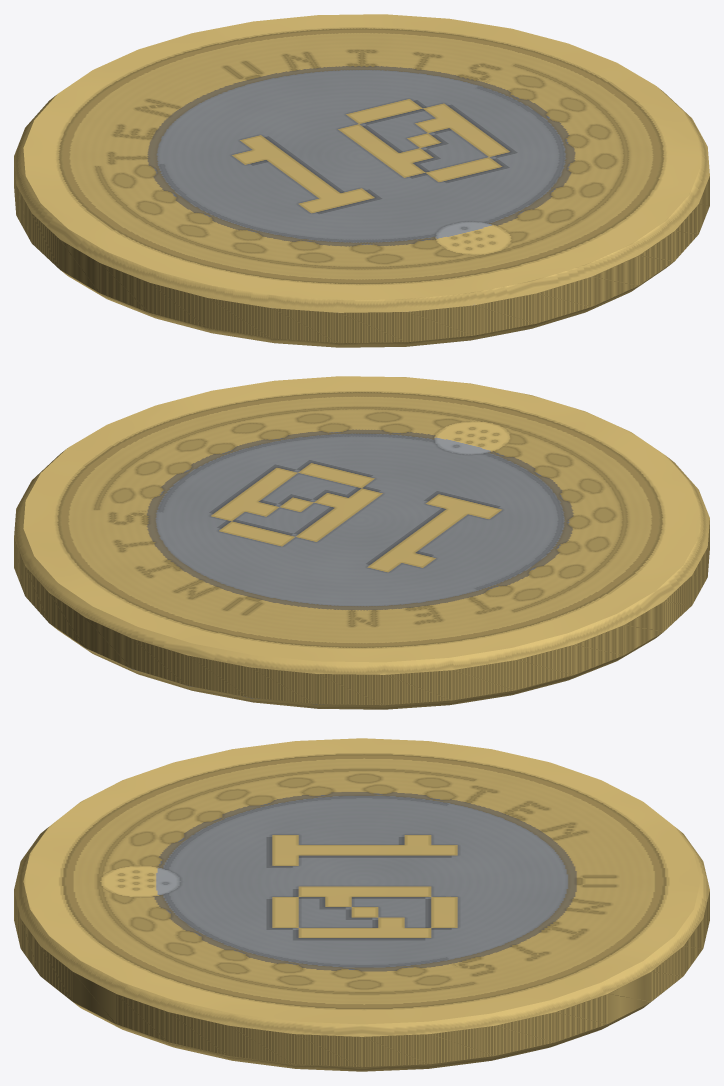
Rendered from cash_coin_10.glb.
3 renders of one model, top to bottom at view 1: azimuth 30°, elevation 25°; view 2: azimuth 150°, elevation 25°; view 3: azimuth 270°, elevation 25°, orthographic.
Visible parts, largest first — view 1: Coin_Body; view 2: Coin_Body; view 3: Coin_Body.
Part boxes in pixels (x1,y1,x2,y2): Coin_Body: (14,14,709,347); Coin_Body: (14,376,709,709); Coin_Body: (14,738,709,1071).
Size of the model in its own units: 0.024 by 0.0018 by 0.024.
Materials: 1 (1 with a texture image).
